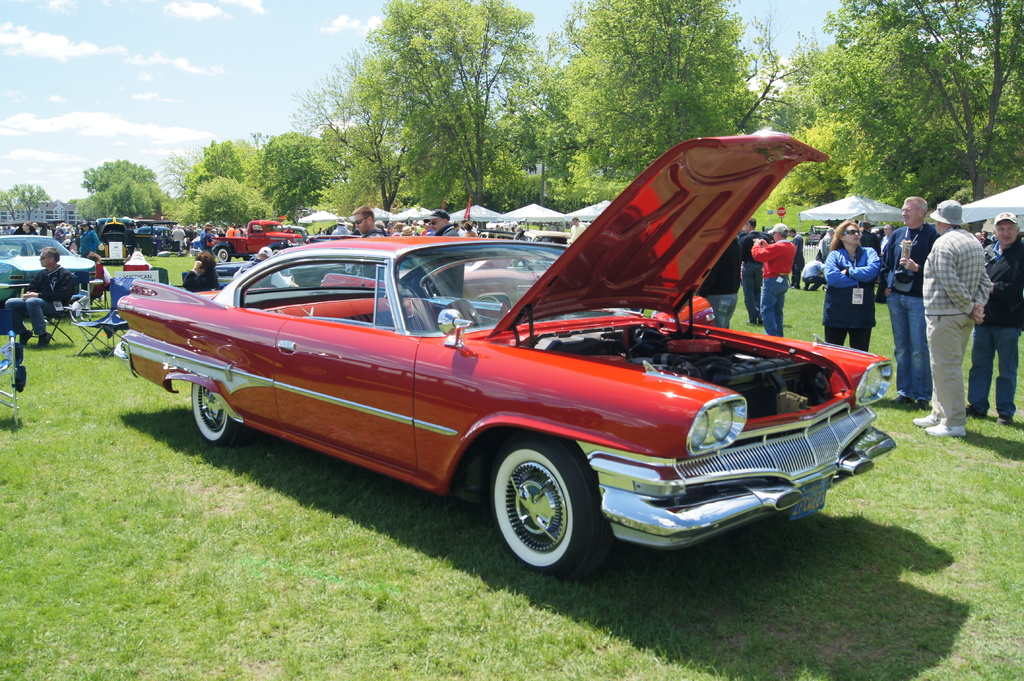Car: (0, 127, 897, 585)
